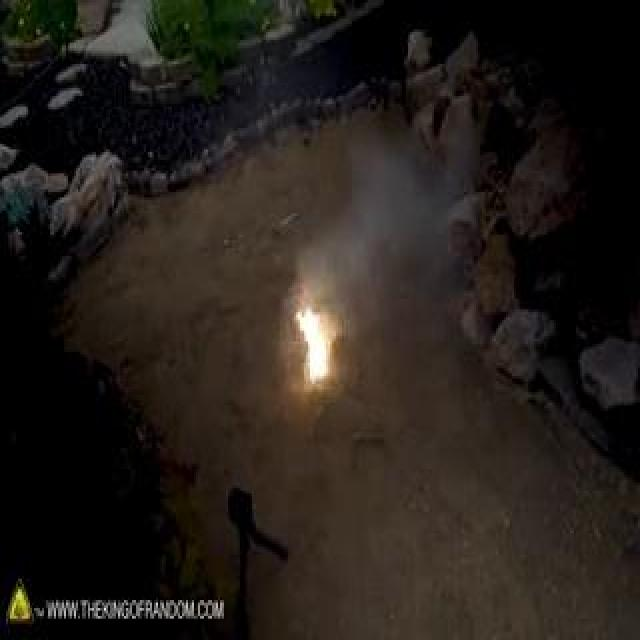Fire: (50, 102, 317, 350)
